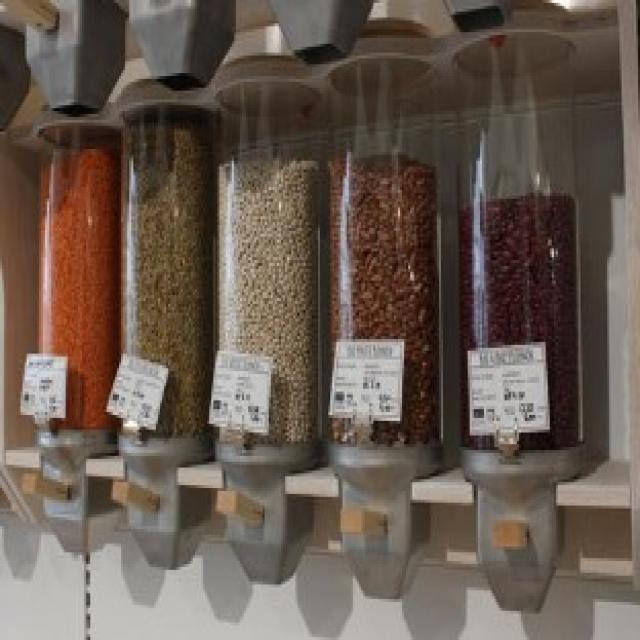electronic: (29, 11, 589, 486)
